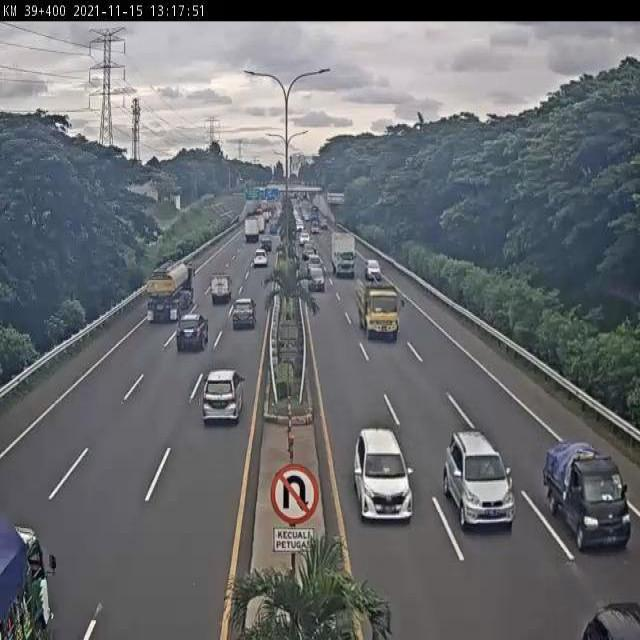car: (441, 428, 516, 531), (354, 428, 415, 521), (200, 370, 243, 426), (174, 313, 208, 355), (229, 298, 257, 334), (306, 266, 327, 294), (365, 258, 383, 282), (252, 255, 266, 272)
truck-m-: (355, 276, 403, 341), (331, 228, 357, 279)
truck-s-: (543, 441, 635, 551), (209, 270, 233, 306)
truck-xl-: (143, 257, 197, 327)
